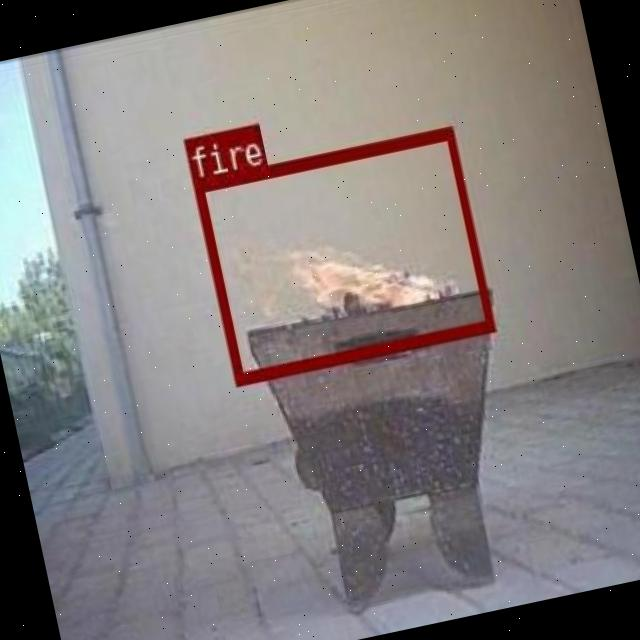fire: (190, 126, 494, 386)
